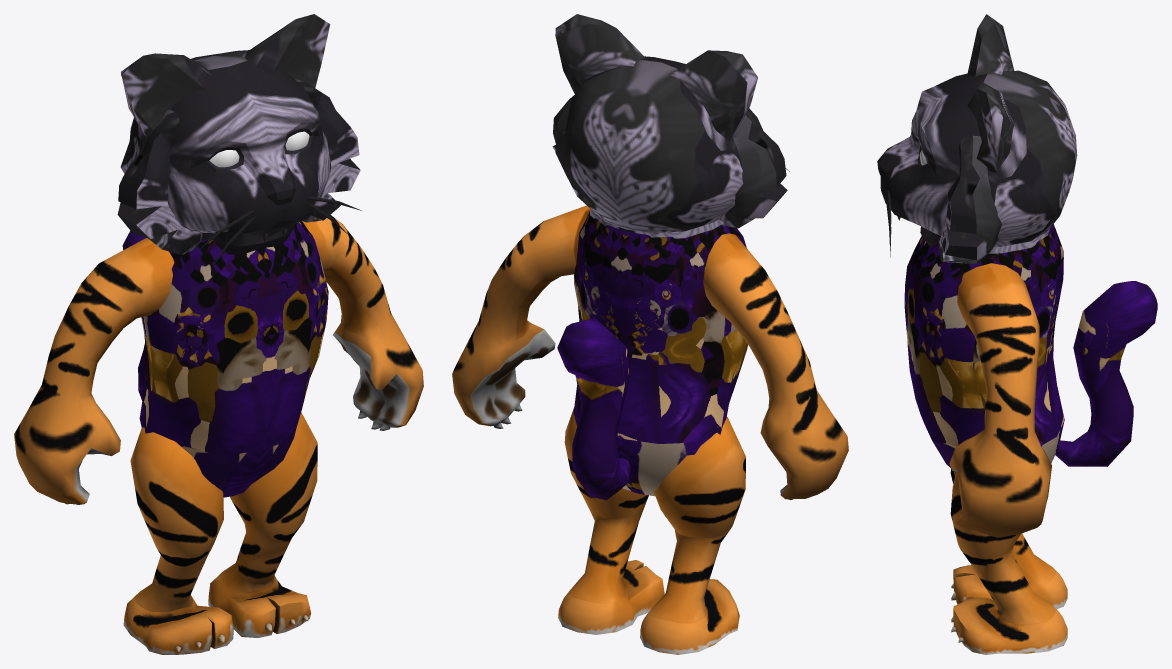
File: bundle_040_tiger_warrior.obj
3 renders of one model, left to right at view 1: azimuth 30°, elevation 25°; view 2: azimuth 150°, elevation 25°; view 3: azimuth 270°, elevation 25°, orthographic. The views are drawn at different scales.
Parts seen in each view (by area): view 1: Handle1, Bundle040tigerwarrior5, Bundle040tigerwarrior3, Bundle040tigerwarrior1, Bundle040tigerwarrior2, Bundle040tigerwarrior4; view 2: Bundle040tigerwarrior5, Handle1, Bundle040tigerwarrior3, Bundle040tigerwarrior1, Bundle040tigerwarrior4, Bundle040tigerwarrior2; view 3: Handle1, Bundle040tigerwarrior5, Bundle040tigerwarrior4, Bundle040tigerwarrior2, Bundle040tigerwarrior1.
Boxes of the visible parts, x1=… form: Handle1: x1=117, y1=14, x2=361, y2=268; Bundle040tigerwarrior5: x1=122, y1=221, x2=328, y2=497; Bundle040tigerwarrior3: x1=14, y1=238, x2=174, y2=504; Bundle040tigerwarrior1: x1=123, y1=427, x2=233, y2=654; Bundle040tigerwarrior2: x1=208, y1=412, x2=317, y2=637; Bundle040tigerwarrior4: x1=302, y1=215, x2=423, y2=430; Bundle040tigerwarrior5: x1=557, y1=212, x2=747, y2=500; Handle1: x1=552, y1=14, x2=789, y2=238; Bundle040tigerwarrior3: x1=703, y1=233, x2=848, y2=499; Bundle040tigerwarrior1: x1=640, y1=417, x2=745, y2=654; Bundle040tigerwarrior4: x1=452, y1=205, x2=589, y2=428; Bundle040tigerwarrior2: x1=558, y1=407, x2=664, y2=634; Handle1: x1=877, y1=14, x2=1077, y2=264; Bundle040tigerwarrior5: x1=904, y1=224, x2=1157, y2=472; Bundle040tigerwarrior4: x1=949, y1=263, x2=1051, y2=537; Bundle040tigerwarrior2: x1=950, y1=472, x2=1067, y2=654; Bundle040tigerwarrior1: x1=950, y1=469, x2=1067, y2=609.
Bounding box in the file's own units: 3.85 × 5.7 × 2.56.
